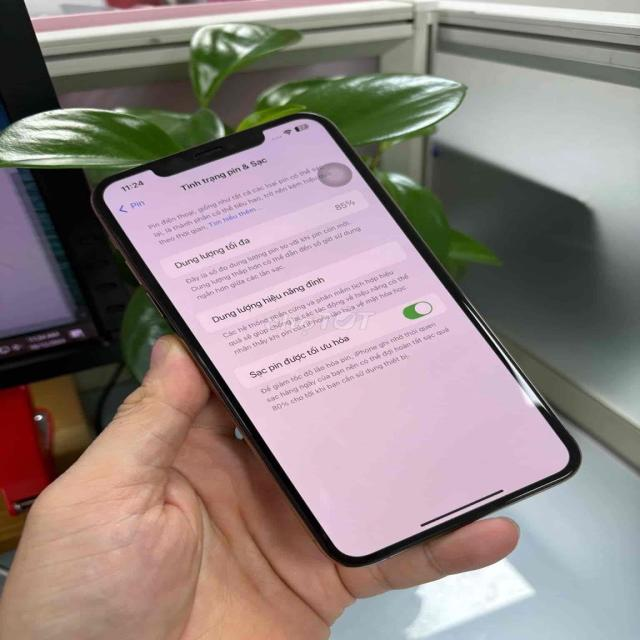gen_11: (92, 112, 579, 566)
